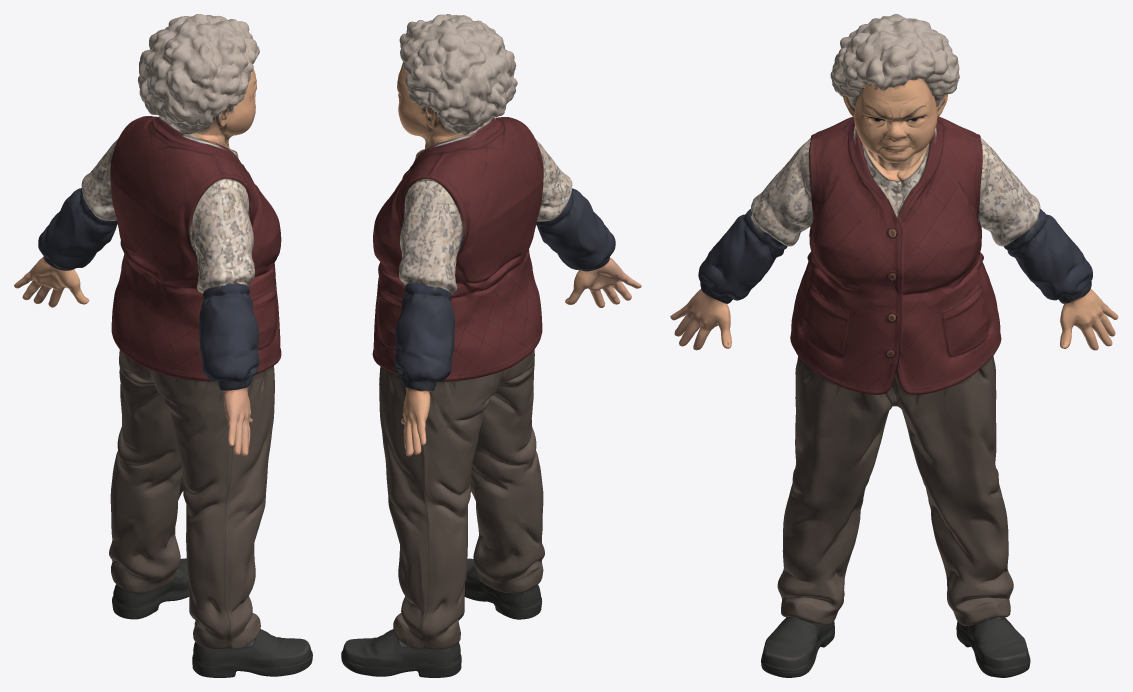
The model's file is halmeoni_tripo.glb.
The picture shows the model from 3 angles, left to right: view 1: azimuth 30°, elevation 25°; view 2: azimuth 150°, elevation 25°; view 3: azimuth 270°, elevation 25°; orthographic projection. The views are drawn at different scales.
Parts seen in each view (by area): view 1: tripo_node_4a108b22-9955-4a12-a4d8-bfee2eb6de1f; view 2: tripo_node_4a108b22-9955-4a12-a4d8-bfee2eb6de1f; view 3: tripo_node_4a108b22-9955-4a12-a4d8-bfee2eb6de1f.
Part boxes in pixels (<box>): tripo_node_4a108b22-9955-4a12-a4d8-bfee2eb6de1f: <box>14,14,312,677</box>; tripo_node_4a108b22-9955-4a12-a4d8-bfee2eb6de1f: <box>341,14,641,677</box>; tripo_node_4a108b22-9955-4a12-a4d8-bfee2eb6de1f: <box>670,14,1118,677</box>.
Size of the model in its own units: 0.2521 by 1 by 0.6403.
1 material, 1 textured.
